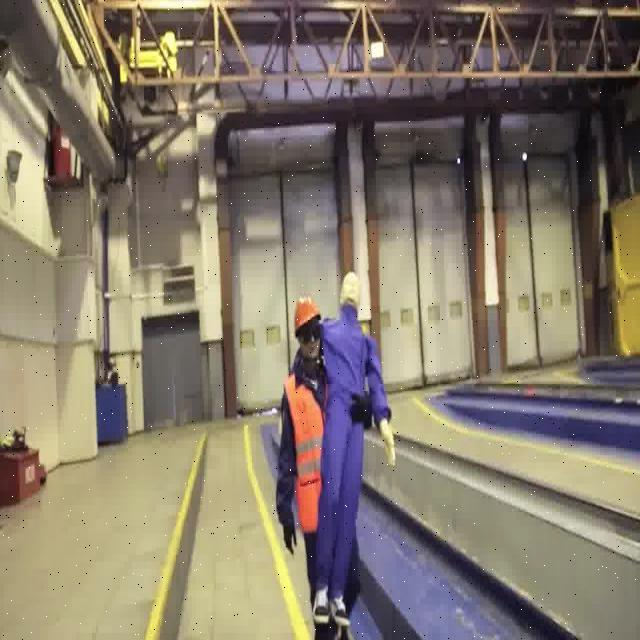Hard_hat: (289, 292, 321, 336)
Vest: (281, 369, 335, 537)
